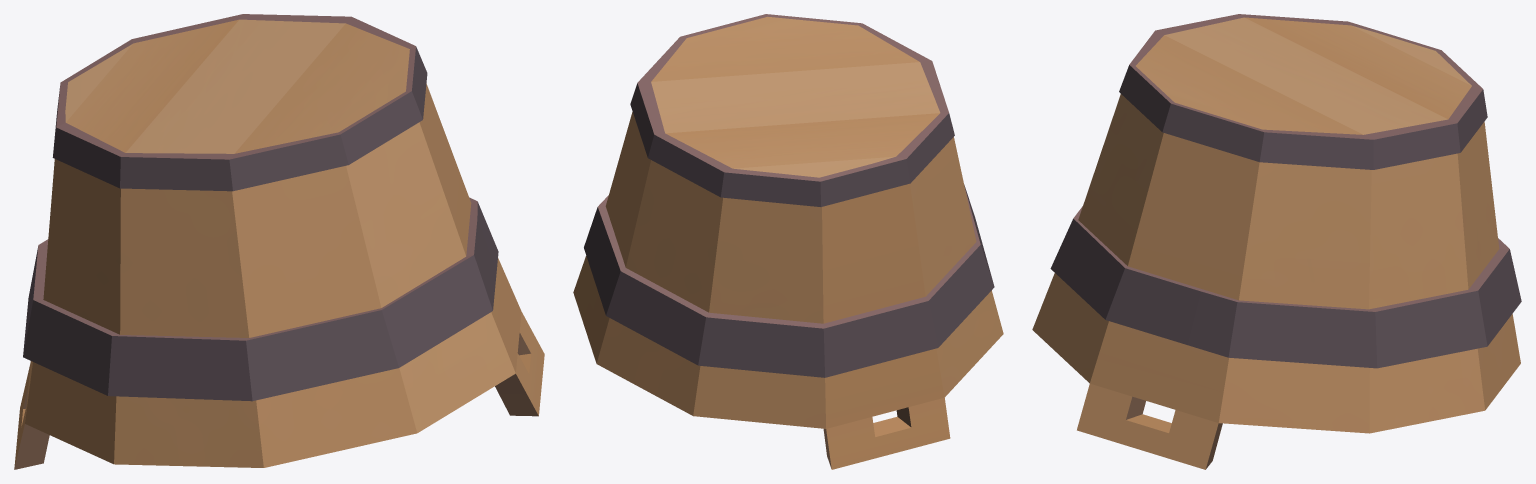
File: bucket.fbx
3 views of the same model, side by side, from view 1: azimuth 30°, elevation 25°; view 2: azimuth 150°, elevation 25°; view 3: azimuth 270°, elevation 25° (orthographic). The views are drawn at different scales.
Visible parts, largest first — view 1: Bucket; view 2: Bucket; view 3: Bucket.
Boxes of the visible parts, bbox=[...] form: Bucket: bbox=[14, 14, 544, 469]; Bucket: bbox=[573, 14, 1003, 469]; Bucket: bbox=[1032, 14, 1521, 469].
Size of the model in its own units: 154 by 120 by 150.
